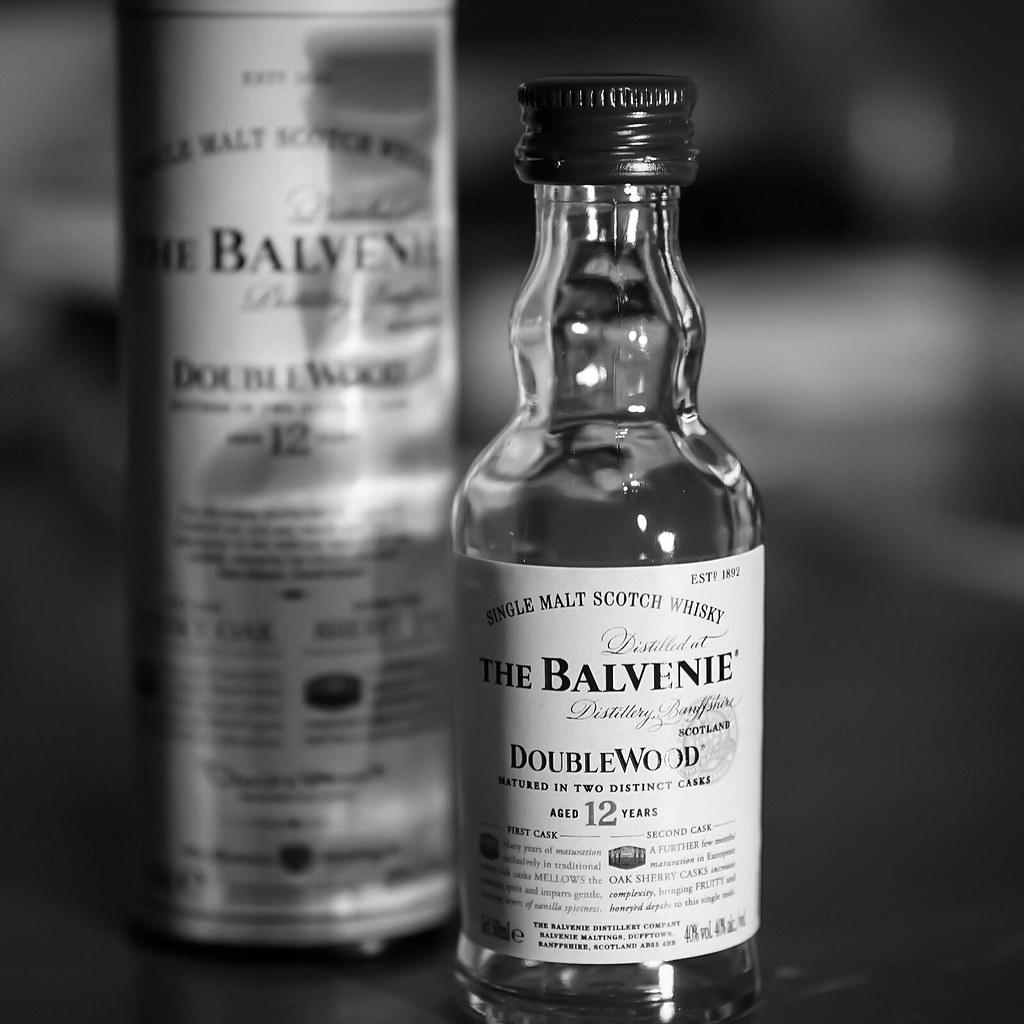bottle: (117, 1, 463, 959), (449, 73, 768, 1023)
